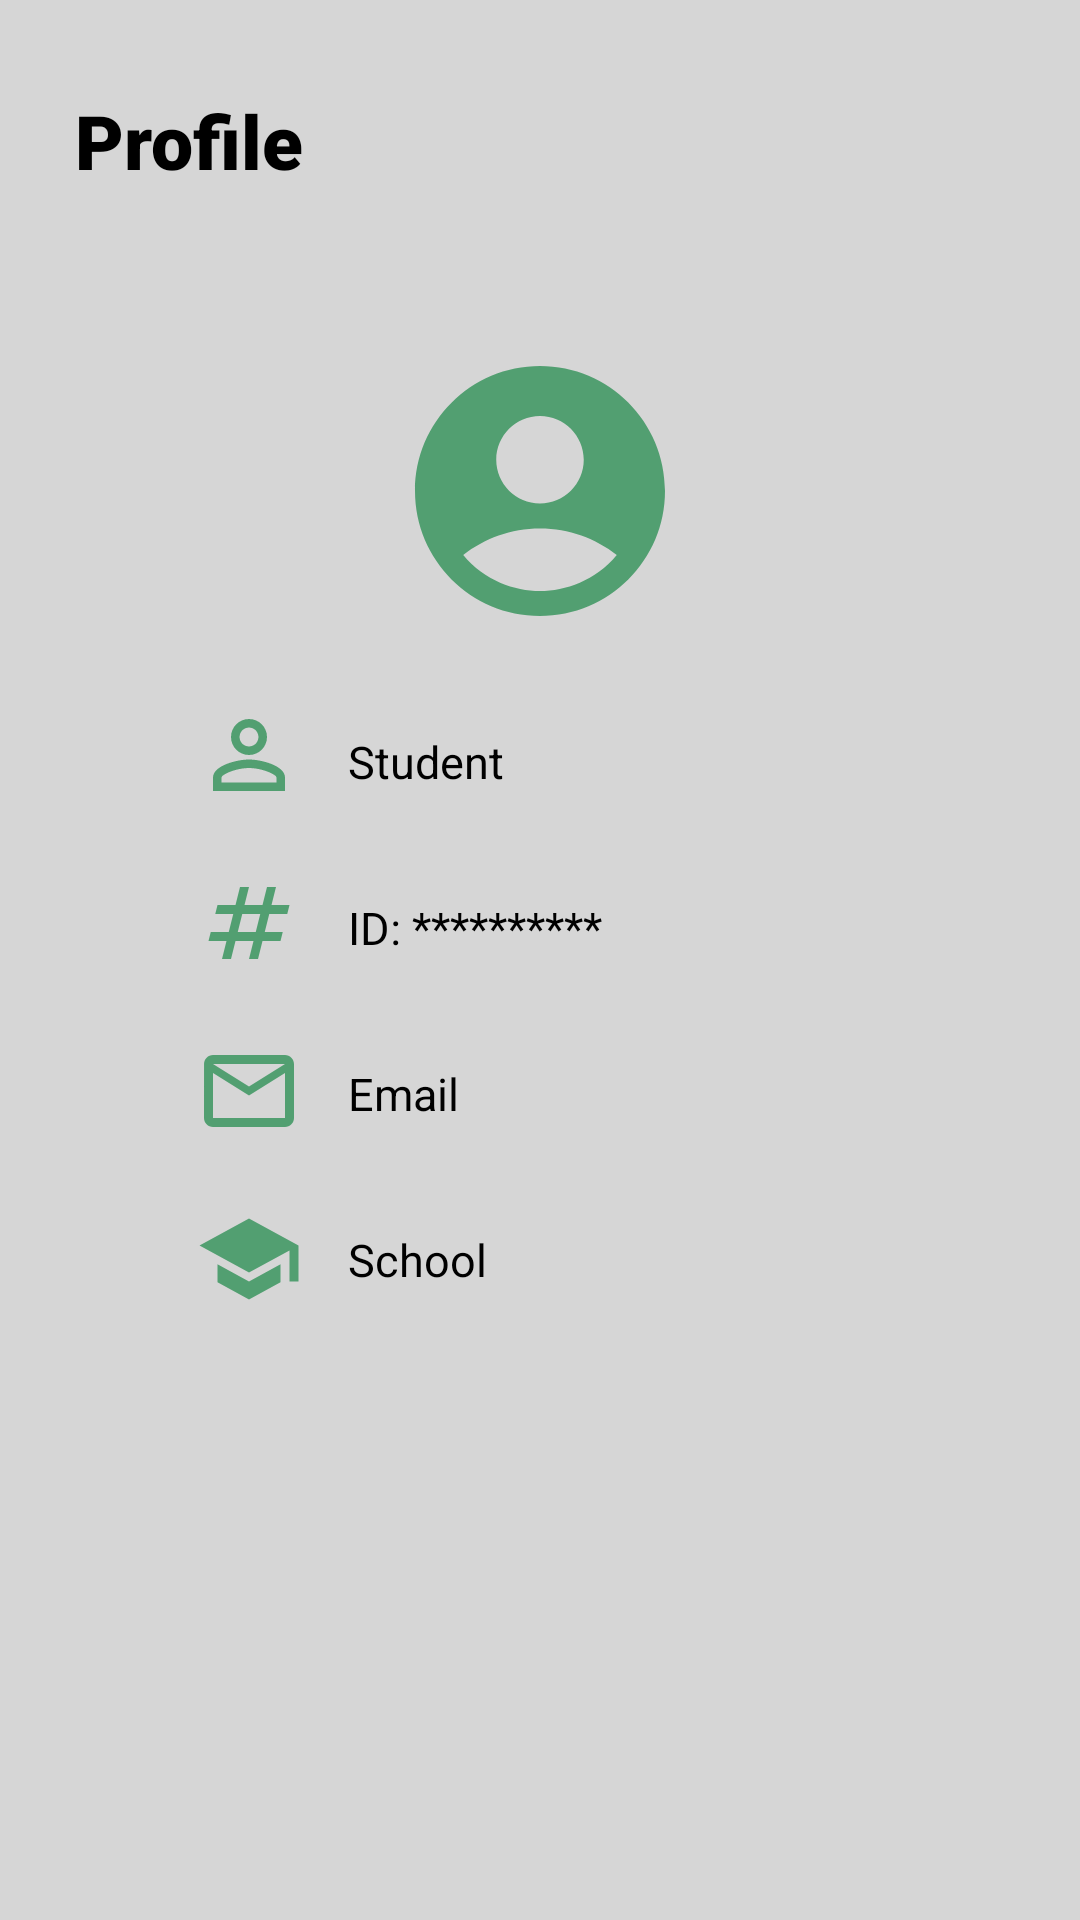

Point at icon controls on the screen. Image size 1080*1920, points as (x=x, y=y).
account circle: (x=540, y=491)
numbers: (x=249, y=923)
person: (x=249, y=755)
